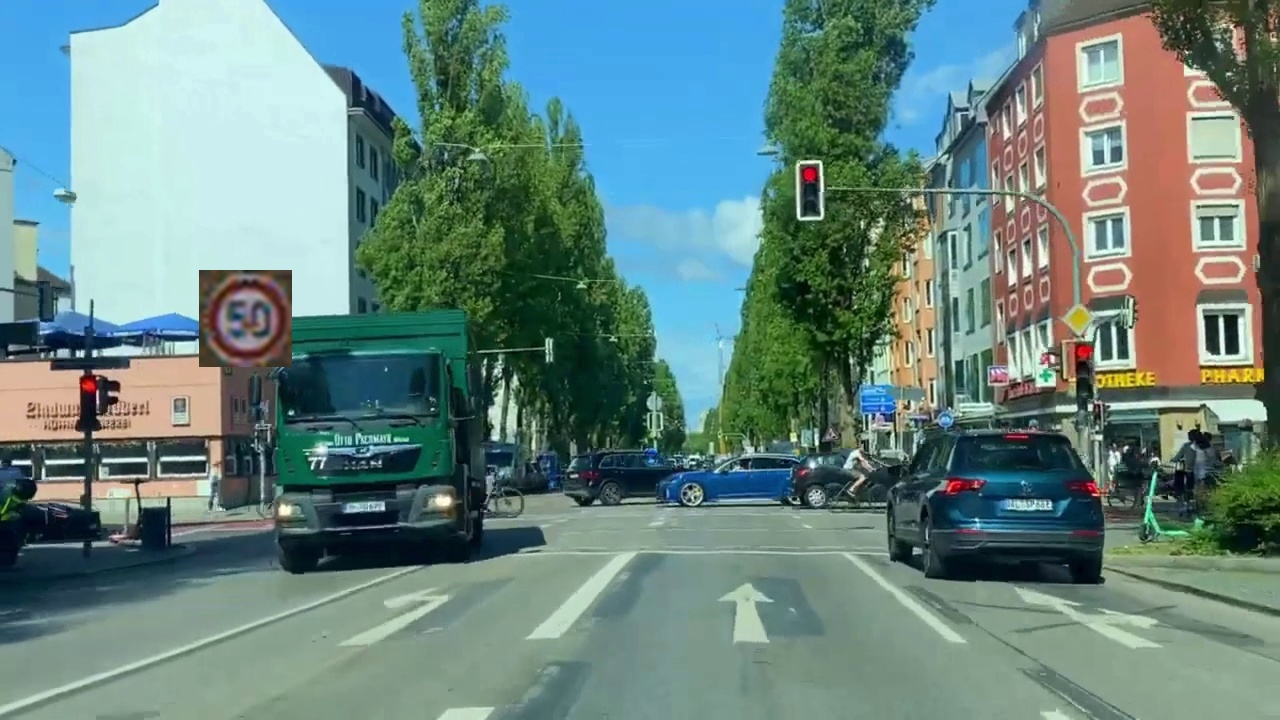Speed 50: (199, 270, 292, 367)
